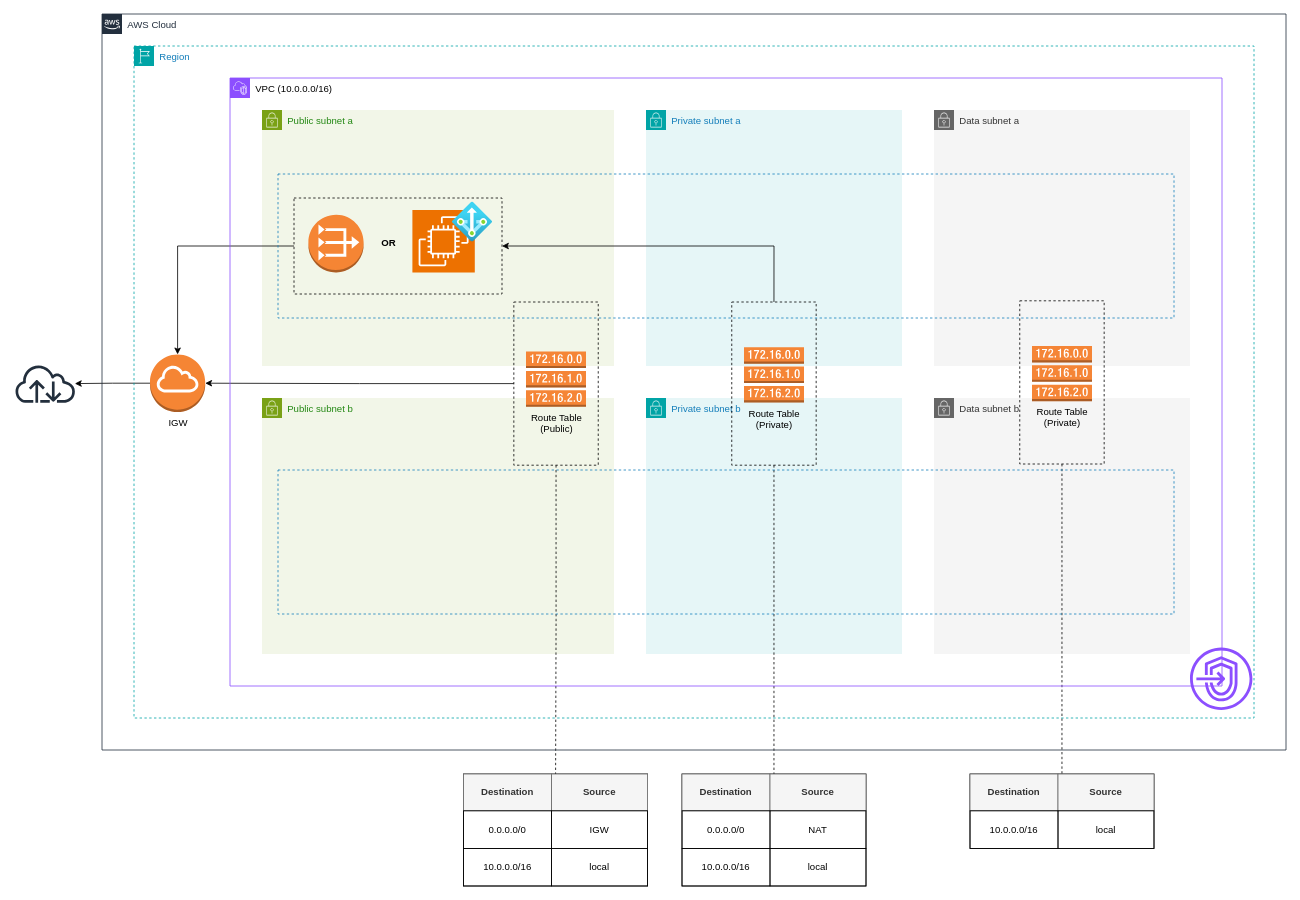
This 1300x900 diagram has some shape labels left out. The shapes that lost their labels are listed below. From the top down, each one's box as (x1, y1, x2, y2) in pixels, then its label:
(308, 214, 364, 272): NAT Gateway
(412, 209, 475, 272): NAT Instance
(277, 173, 1174, 318): Availability Zone a
(14, 364, 76, 402): Internet
(277, 469, 1174, 614): Availability Zone b
(1190, 647, 1252, 710): VPC Endpoints
